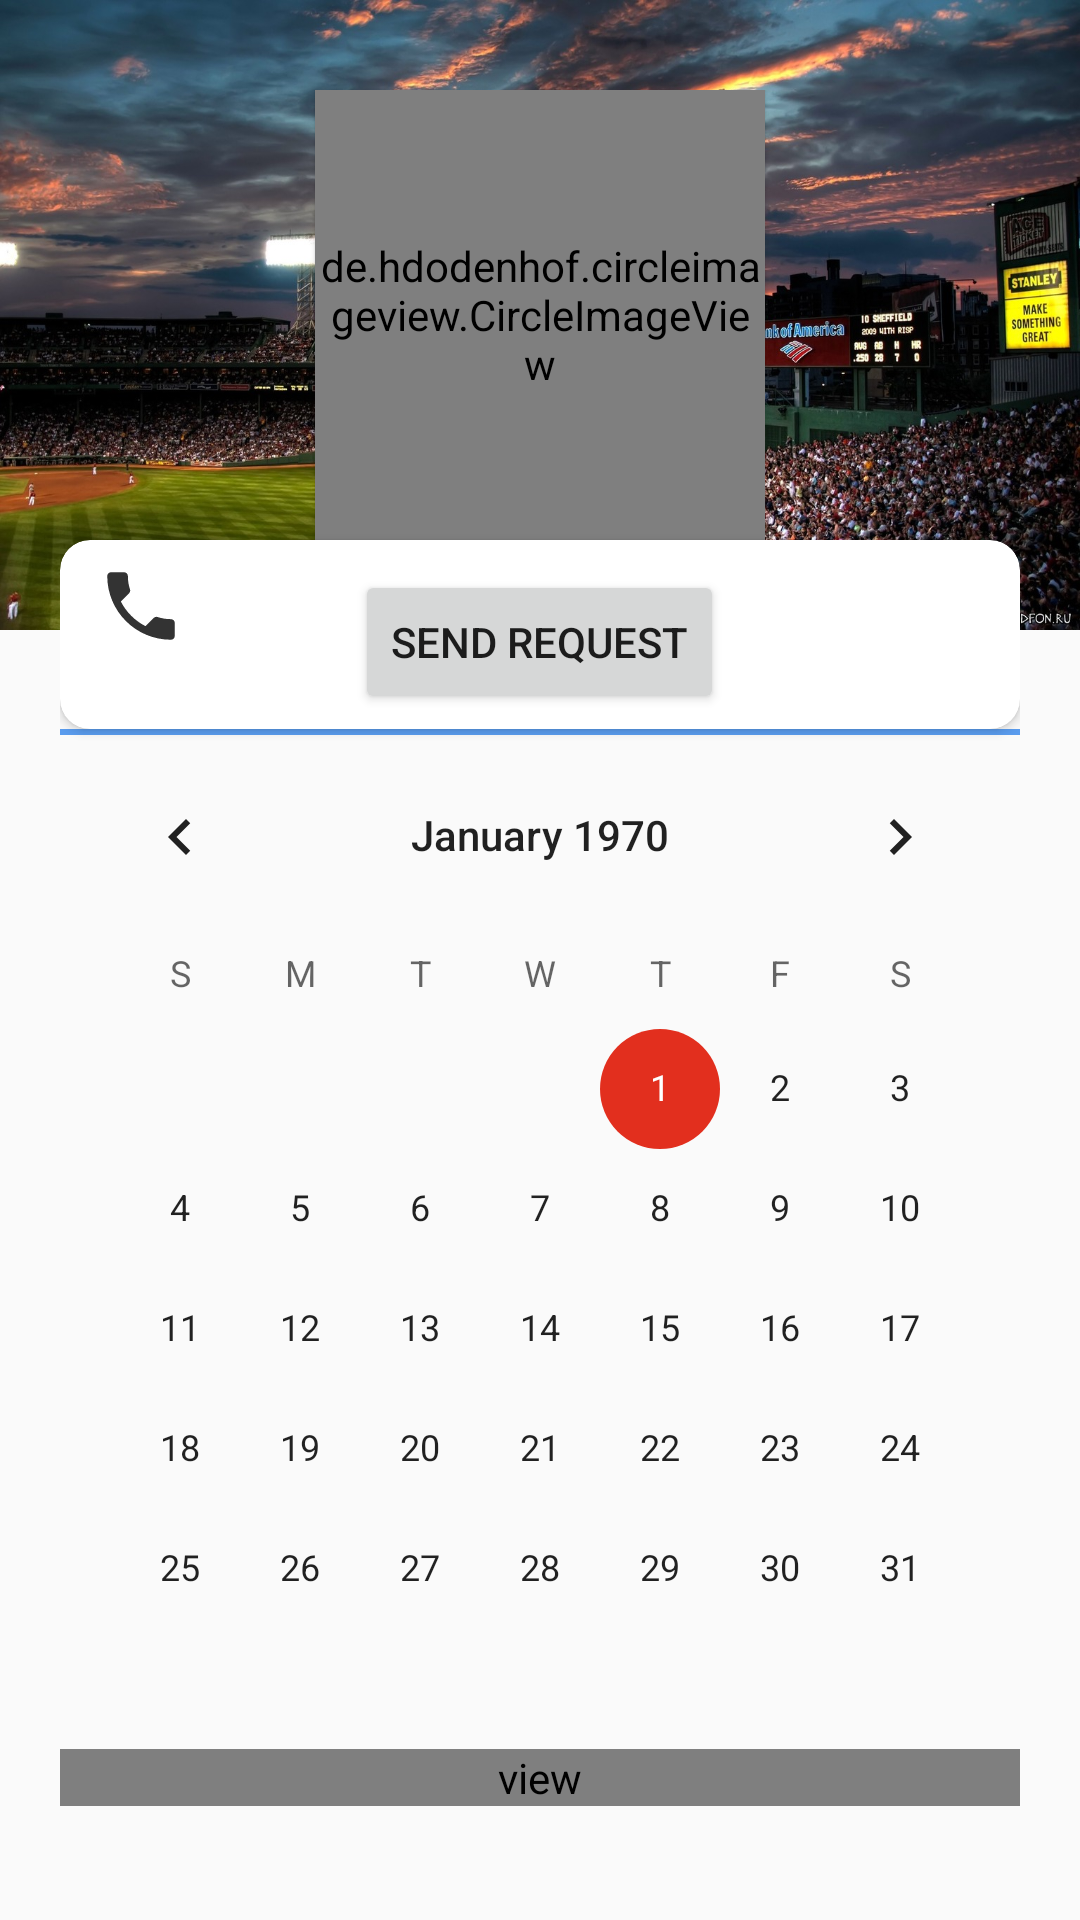

Icon click points for this 1080 x 1920 phone screenshot, format point (x, y):
contact: point (141, 606)
